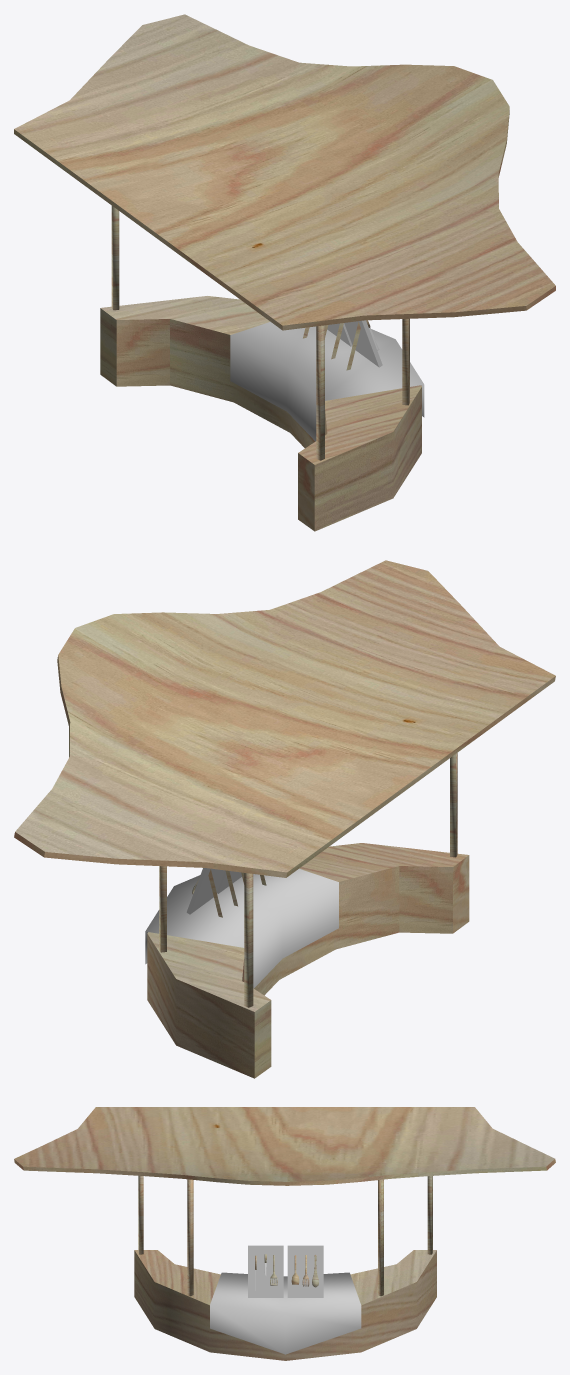
Rendered from Shop3.fbx.
The picture shows the model from 3 angles, top to bottom: view 1: azimuth 30°, elevation 25°; view 2: azimuth 150°, elevation 25°; view 3: azimuth 270°, elevation 25°; orthographic projection. The views are drawn at different scales.
Parts seen in each view (by area): view 1: BezierCurve.002, Cylinder.003, Cylinder.004, Cube.007, Cube.008; view 2: BezierCurve.002, Cylinder.003, Cylinder.004, Cube.007, Cube.009; view 3: BezierCurve.002, Cylinder.003, Cylinder.004, Cube.007, Cube.008, Cube.009.
Boxes of the visible parts, x1,y1,x2,y2 form: BezierCurve.002: (14,14,555,330); Cylinder.003: (100,296,421,531); Cylinder.004: (230,321,424,441); Cube.007: (111,206,409,460); Cube.008: (344,320,382,367); BezierCurve.002: (14,560,555,877); Cylinder.003: (147,843,469,1078); Cylinder.004: (145,868,338,988); Cube.007: (159,753,457,1007); Cube.009: (186,868,224,914); BezierCurve.002: (14,1107,555,1185); Cylinder.003: (134,1250,436,1360); Cylinder.004: (210,1272,361,1354); Cube.007: (138,1175,432,1296); Cube.008: (248,1245,283,1297); Cube.009: (287,1245,323,1297).
Bounding box in the file's own units: 557 × 466 × 1072.
